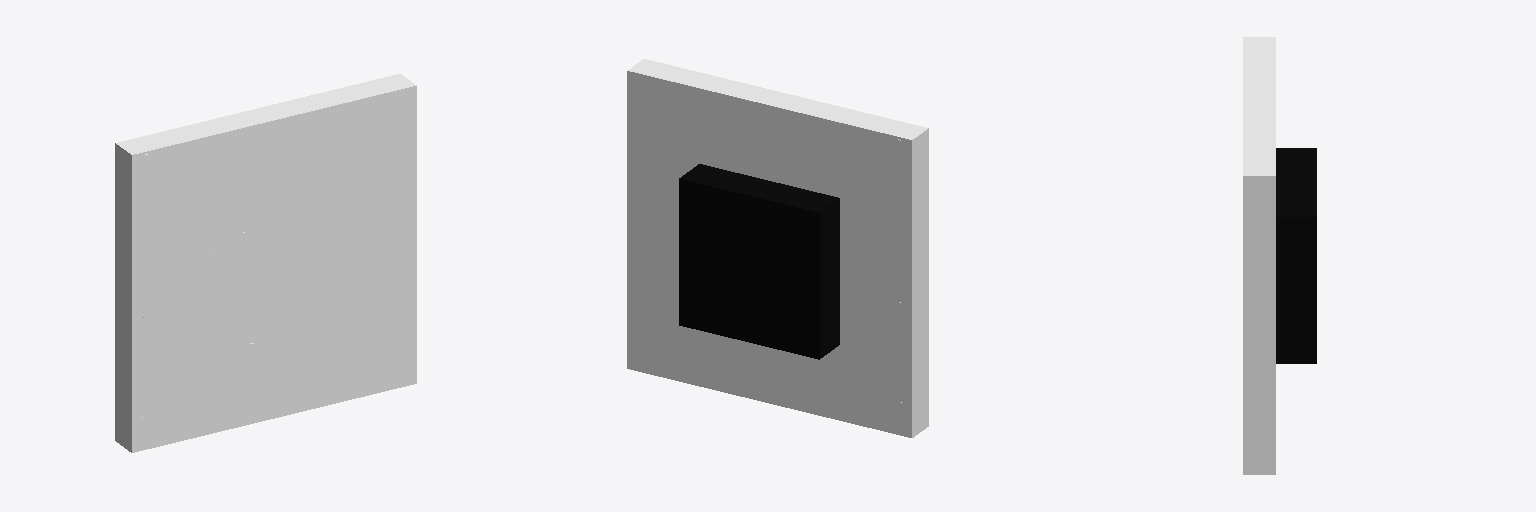
3 renders of one model, left to right at view 1: azimuth 30°, elevation 25°; view 2: azimuth 150°, elevation 25°; view 3: azimuth 270°, elevation 25°, orthographic.
Visible parts, largest first — view 1: Object.2; view 2: Object.2, Object.1; view 3: Object.2, Object.1.
Boxes of the visible parts, box(x1,y1,x2,y2) form: Object.2: box(115, 74, 416, 452); Object.2: box(627, 59, 928, 437); Object.1: box(679, 164, 839, 359); Object.2: box(1243, 37, 1275, 474); Object.1: box(1276, 148, 1316, 363).
Size of the model in its own units: 165 by 165 by 36.83.
Materials: 2 (1 with a texture image).